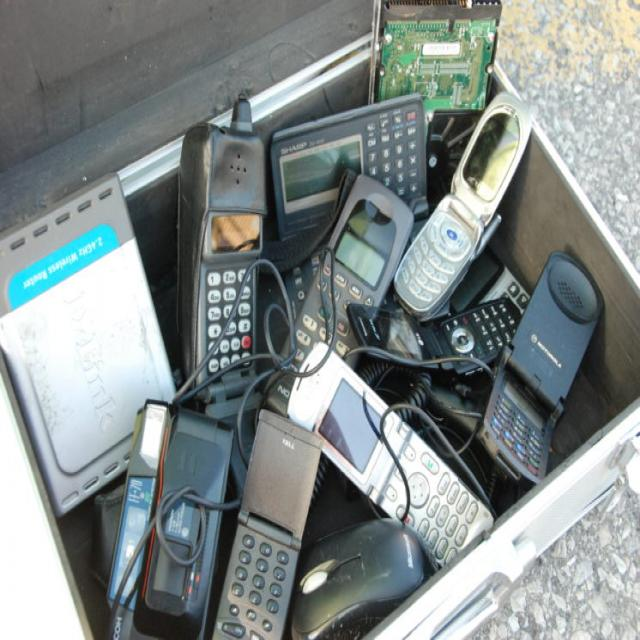heap: (161, 141, 563, 565)
